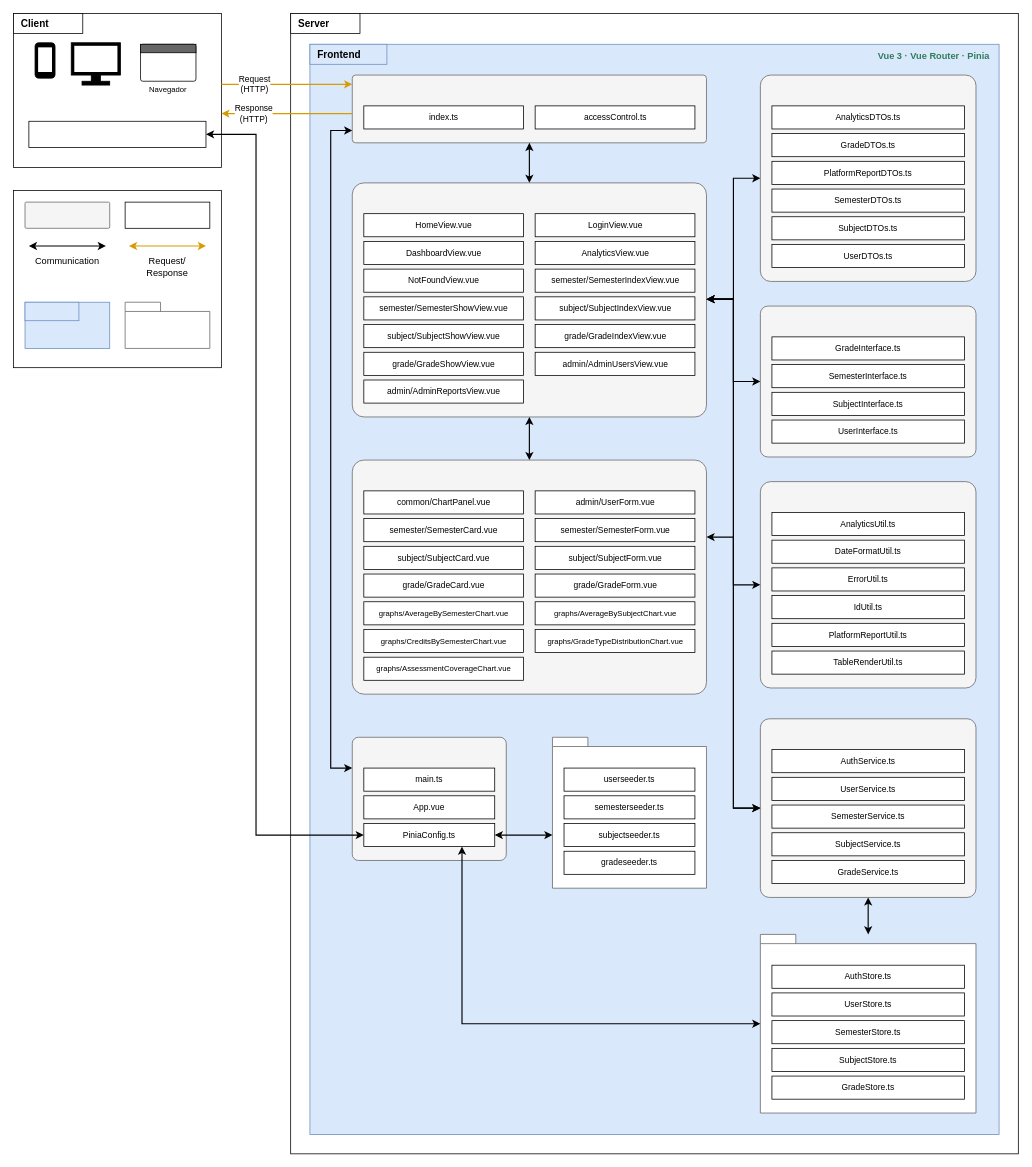
The diagram is 1032 pixels wide and 1167 high, and some of its shapes have lost their labels. The box of each missing label's shape, as (x1, y1, x2, y2) in pixels:
Class/File: (124, 201, 210, 228)
layer: (24, 201, 110, 228)
localStorage (piniaStateV2): (28, 121, 206, 147)
package: (124, 301, 210, 348)
Project: (24, 301, 79, 321)
src/: (352, 737, 506, 860)
src/components/ (V): (352, 459, 706, 694)
src/dtos/ (M): (760, 74, 976, 281)
src/interfaces/ (M): (760, 305, 976, 457)
src/router/: (352, 74, 706, 143)
src/seeders/: (552, 737, 706, 888)
src/services/ (M): (760, 718, 976, 897)
src/stores/: (760, 934, 976, 1113)
src/utils/: (760, 481, 976, 688)
src/views/ (VM / V): (352, 182, 706, 417)
